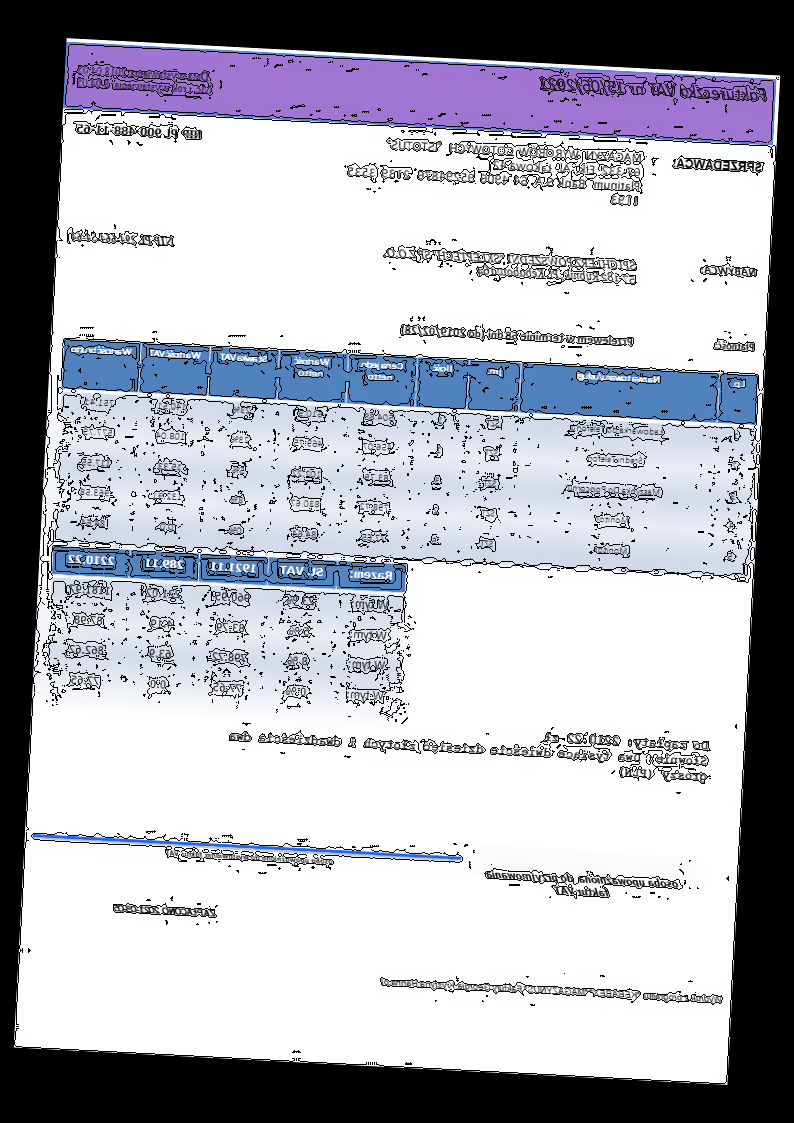Table: (52, 337, 760, 579), (44, 544, 408, 715)
TextBox: (224, 713, 711, 785), (344, 133, 645, 207), (378, 974, 725, 1006), (381, 245, 638, 287), (482, 866, 682, 904), (538, 74, 769, 105), (400, 323, 635, 348), (75, 61, 215, 95), (163, 847, 336, 867), (75, 121, 205, 143), (671, 153, 765, 176), (70, 229, 176, 249), (113, 900, 219, 920), (699, 262, 759, 279), (713, 337, 757, 355)
